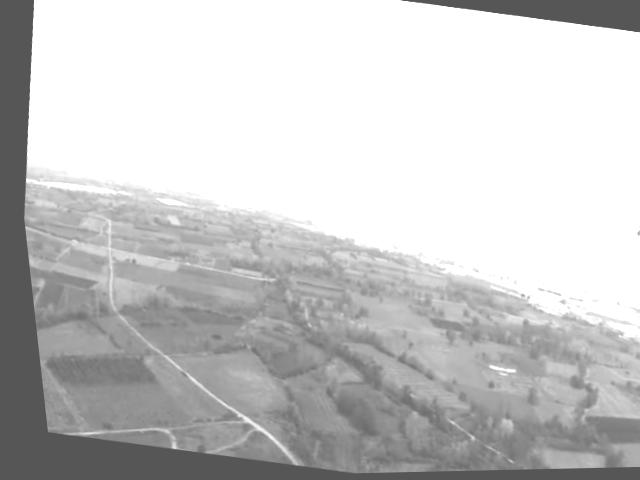hedef: (585, 187, 640, 293)
